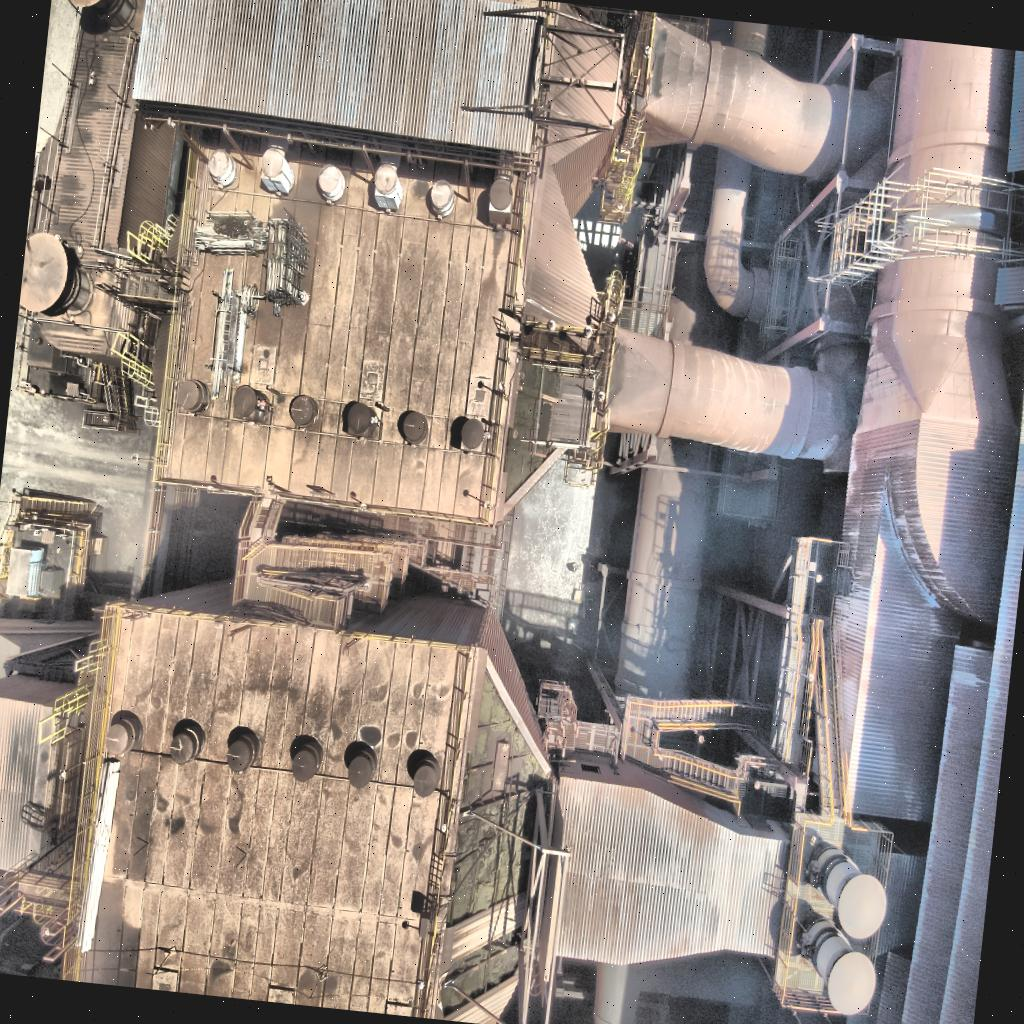Failures: (442, 664, 570, 944), (500, 322, 582, 513), (435, 922, 532, 1024)
